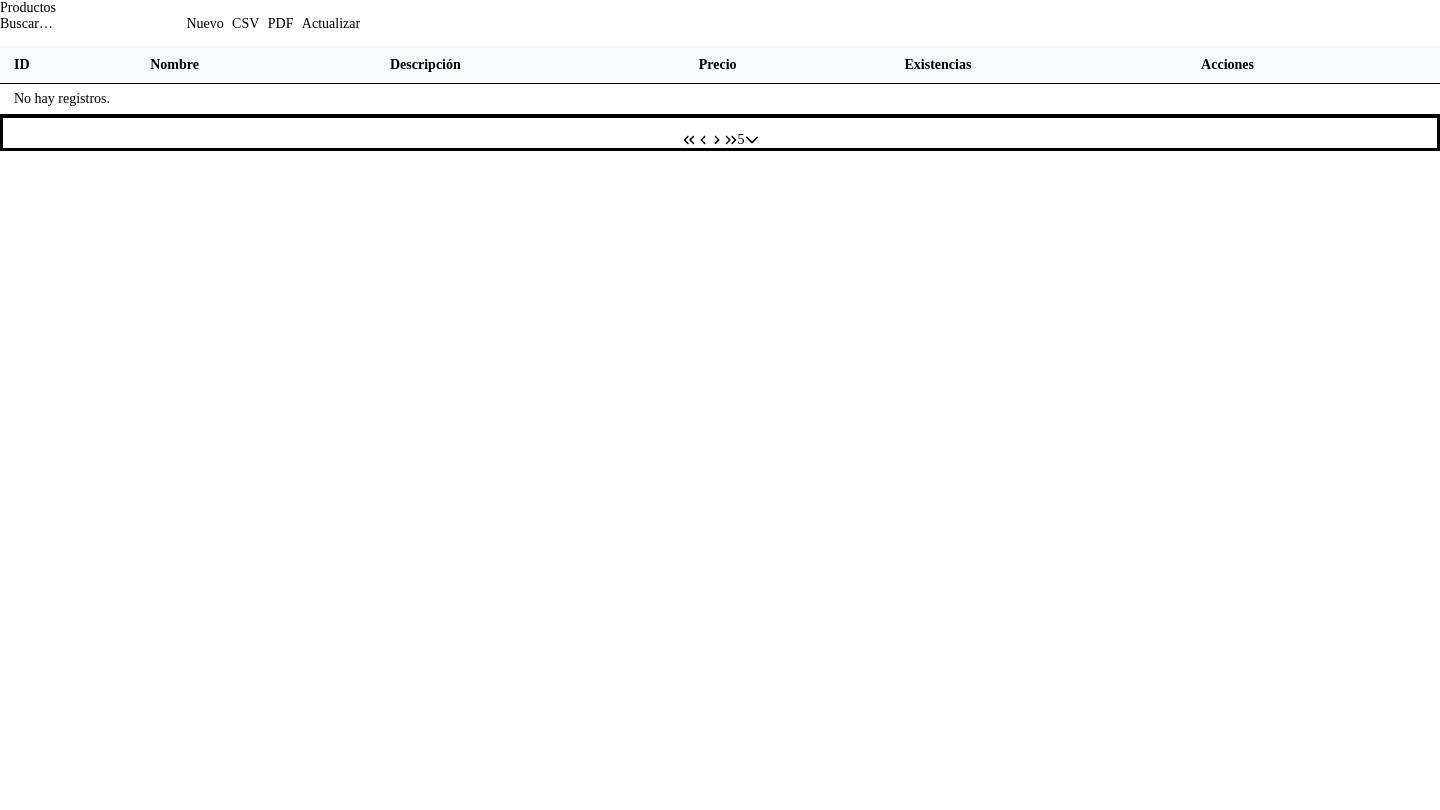
Test: CRUD PrimeVue › mantiene los datos y muestra el error de validación al guardar
Click the button "Nuevo" at (205, 24), box x1=186 y1=16 x2=224 y2=32
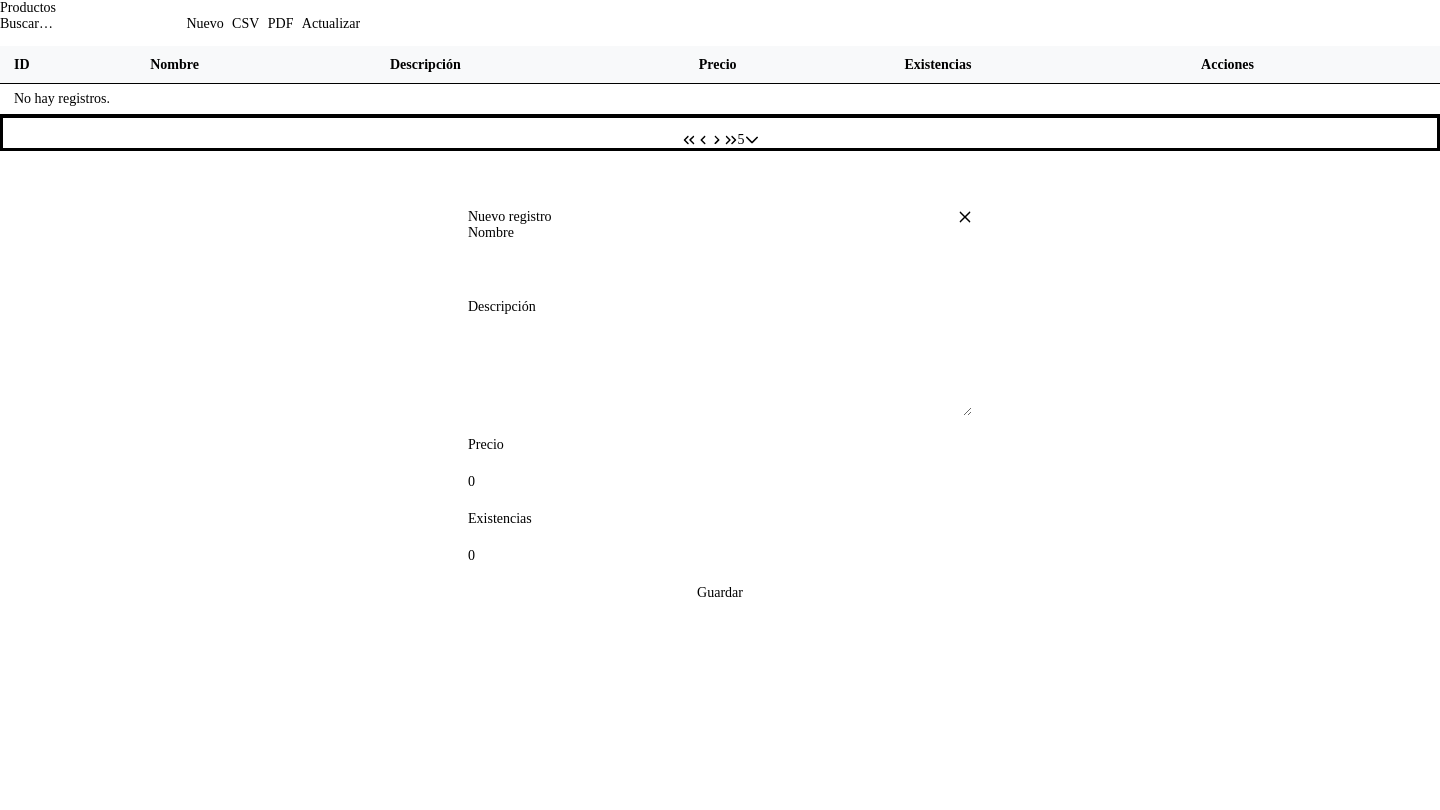
Submit the form, box x1=468 y1=225 x2=972 y2=601
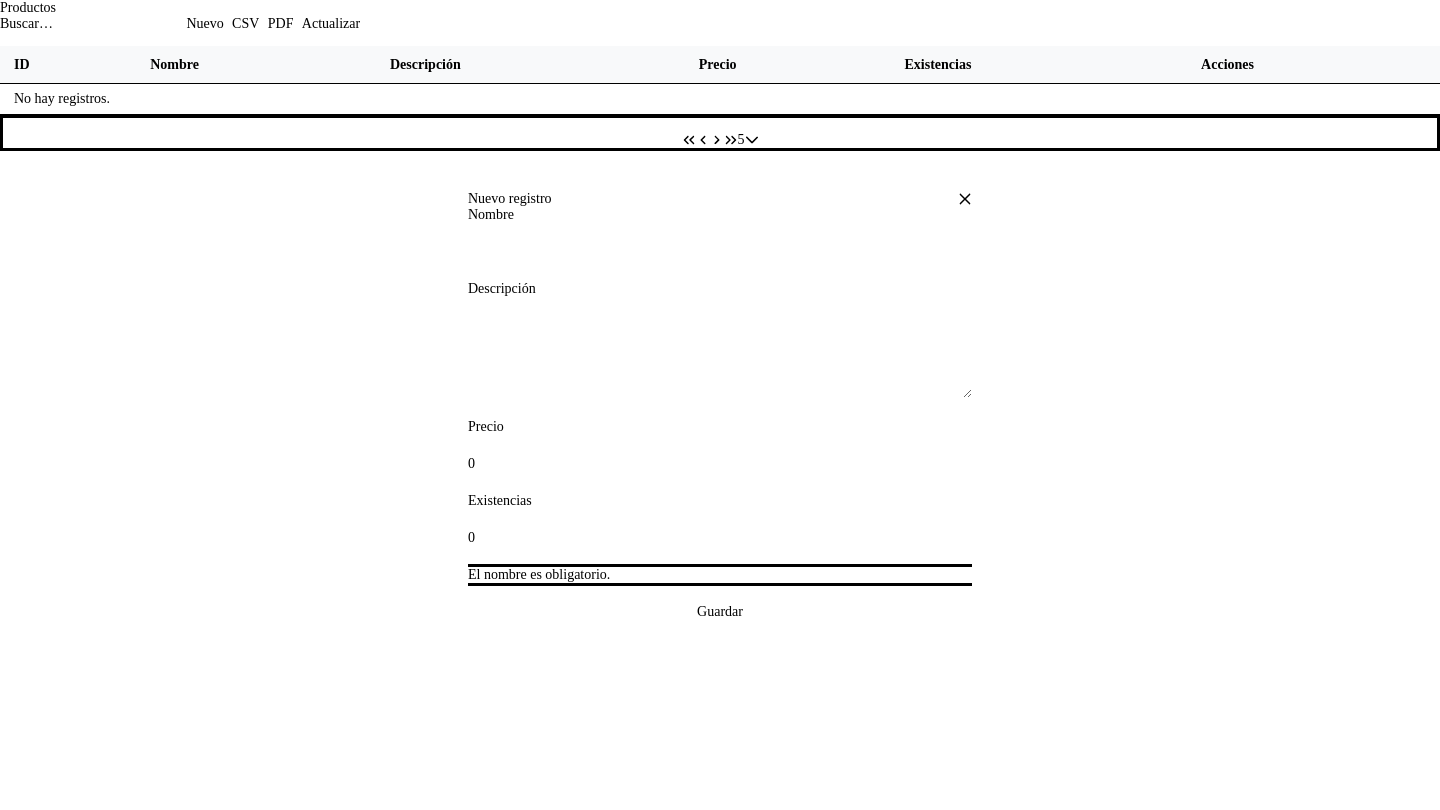
Check: the form is shown, box x1=468 y1=206 x2=972 y2=620
Check: the text "El nombre es obligatorio." is shown, box x1=468 y1=566 x2=610 y2=582
